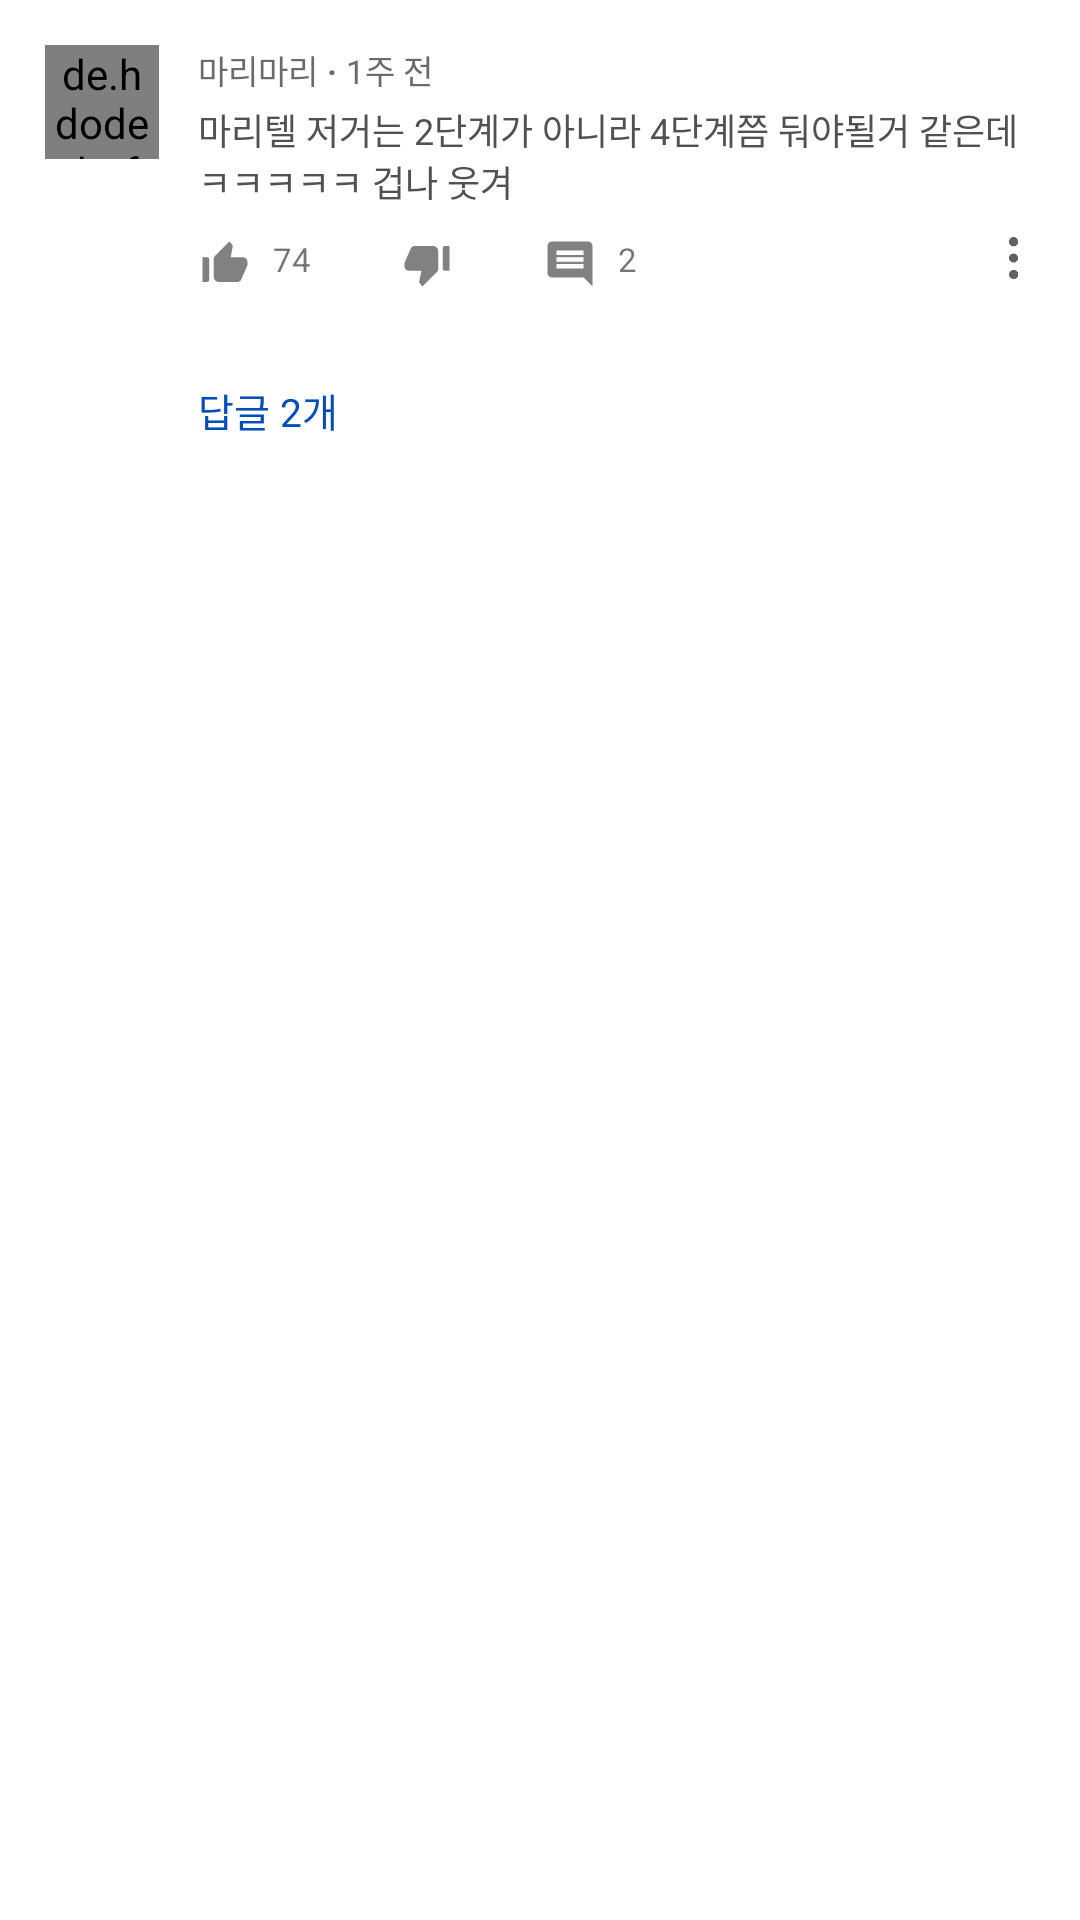

Named icons in this screenshot (1080 x 1920) and their bounding boxes, (x1=x1, y1=y1, x2=x2, y2=y2):
comment: (x1=547, y1=241, x2=593, y2=286)
thumb down: (x1=404, y1=246, x2=450, y2=287)
thumb up: (x1=202, y1=241, x2=248, y2=282)
